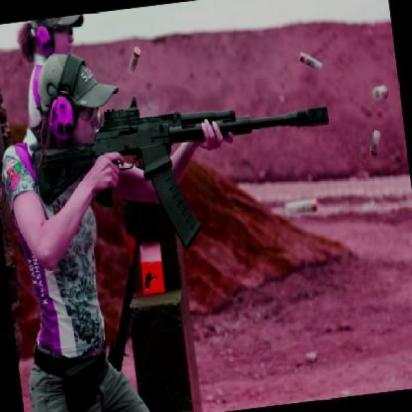Gun: (25, 77, 343, 267)
